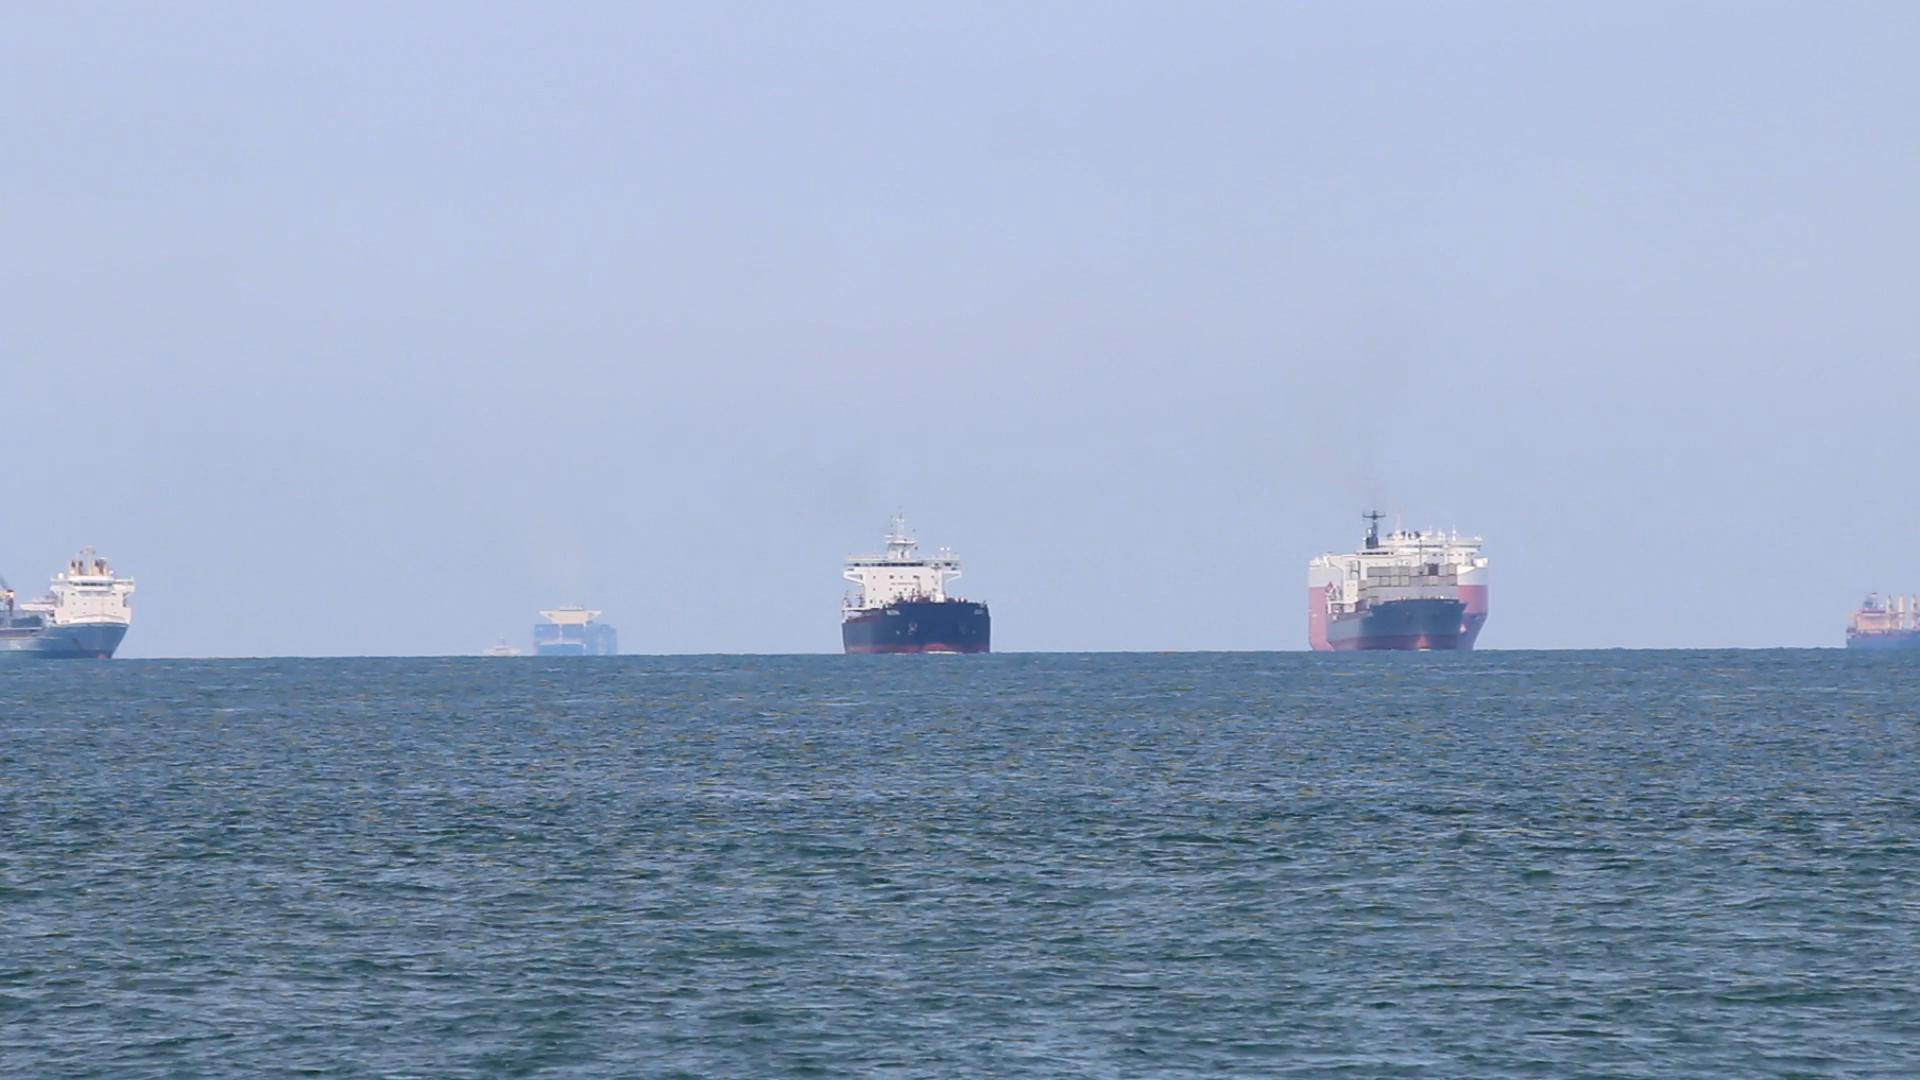Container Ship: (1298, 500, 1491, 667), (836, 502, 993, 674), (3, 545, 137, 674), (517, 599, 615, 671), (1834, 587, 1917, 654), (468, 642, 529, 671)
